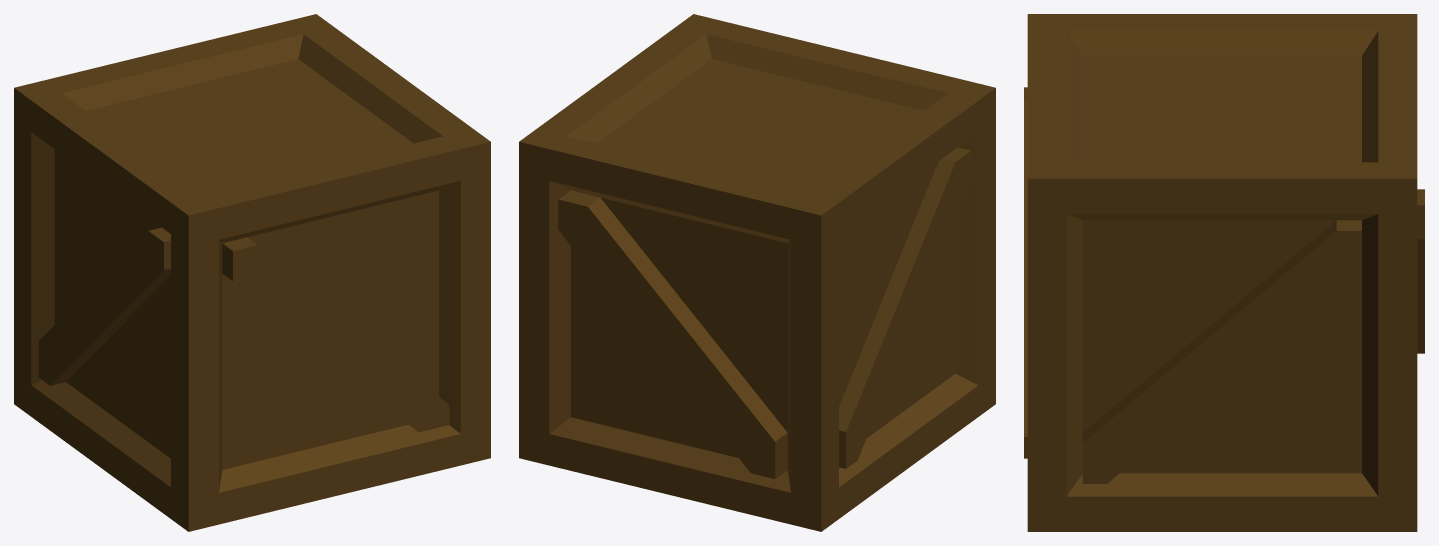
3 renders of one model, left to right at view 1: azimuth 30°, elevation 25°; view 2: azimuth 150°, elevation 25°; view 3: azimuth 270°, elevation 25°, orthographic. The views are drawn at different scales.
Parts seen in each view (by area): view 1: Box_2; view 2: Box_2; view 3: Box_2.
Boxes of the visible parts, bbox=[...] form: Box_2: bbox=[14, 14, 490, 531]; Box_2: bbox=[519, 14, 995, 531]; Box_2: bbox=[1024, 14, 1424, 531].
Bounding box in the file's own units: 1564 × 1544 × 1587.
